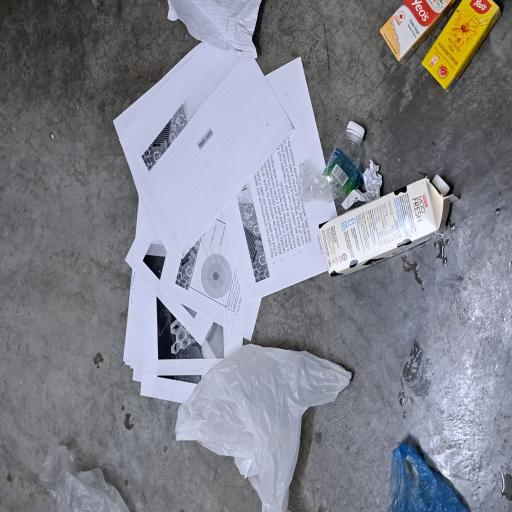drink carton: (176, 421, 254, 512)
paper: (82, 150, 384, 447), (226, 452, 264, 510)
plastic bag: (0, 236, 126, 472), (0, 43, 51, 182)
plastic bottle: (232, 392, 297, 490)
plastic bottle cap: (278, 458, 296, 486)
